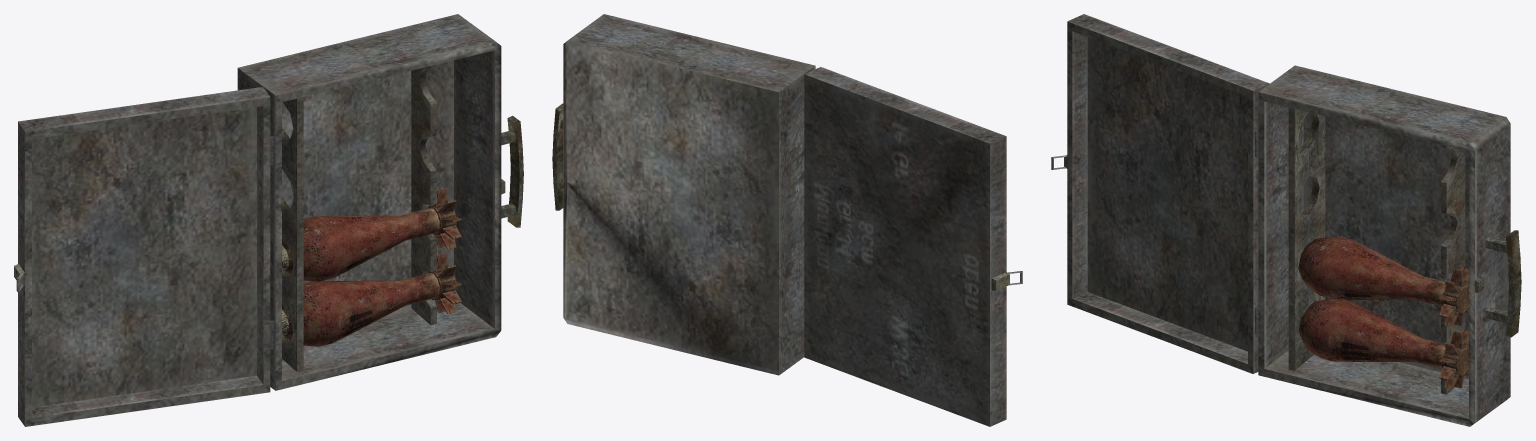
File: prop_mortar_case.glb
3 views of the same model, side by side, from view 1: azimuth 30°, elevation 25°; view 2: azimuth 150°, elevation 25°; view 3: azimuth 330°, elevation 25° (orthographic). The views are drawn at different scales.
Bounding box in the file's own units: 25.05 × 14.3 × 3.35.
2 materials, 2 textured.
